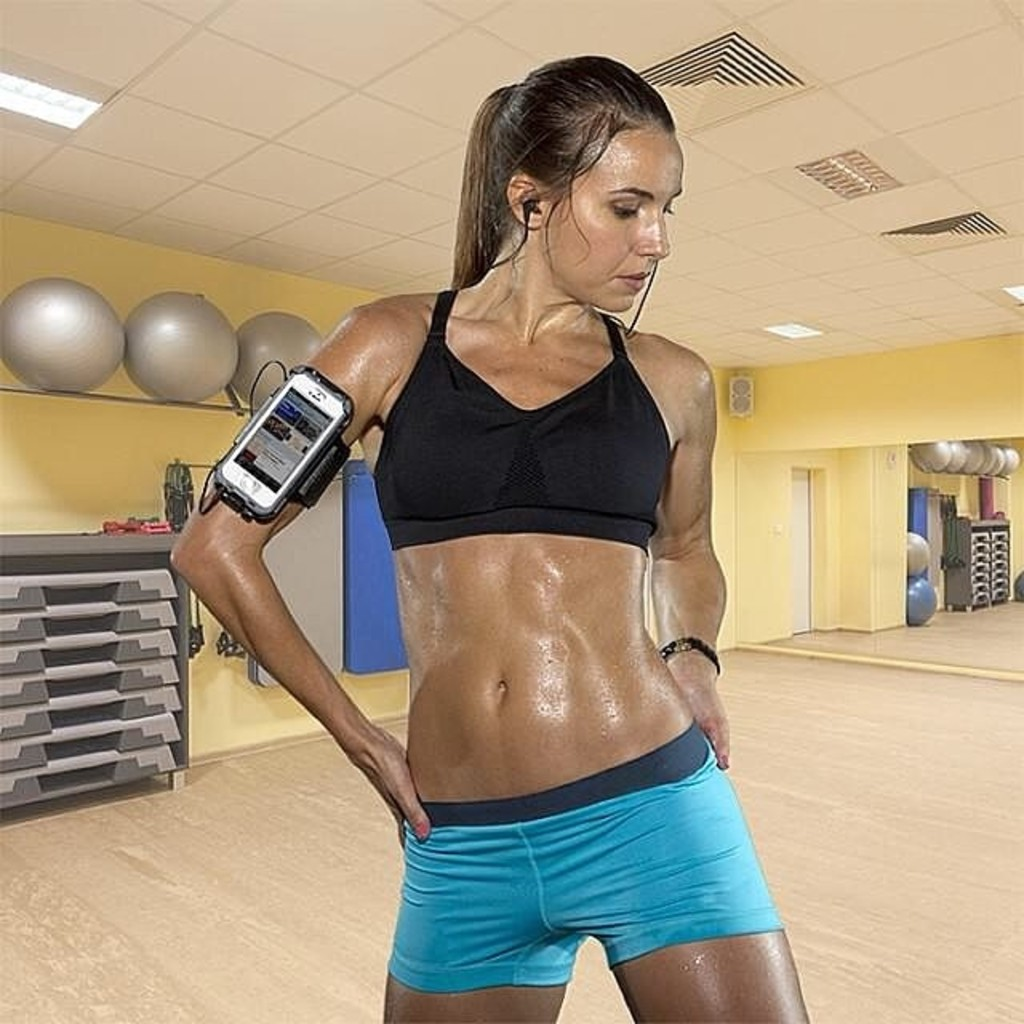Person: (169, 54, 809, 1023)
